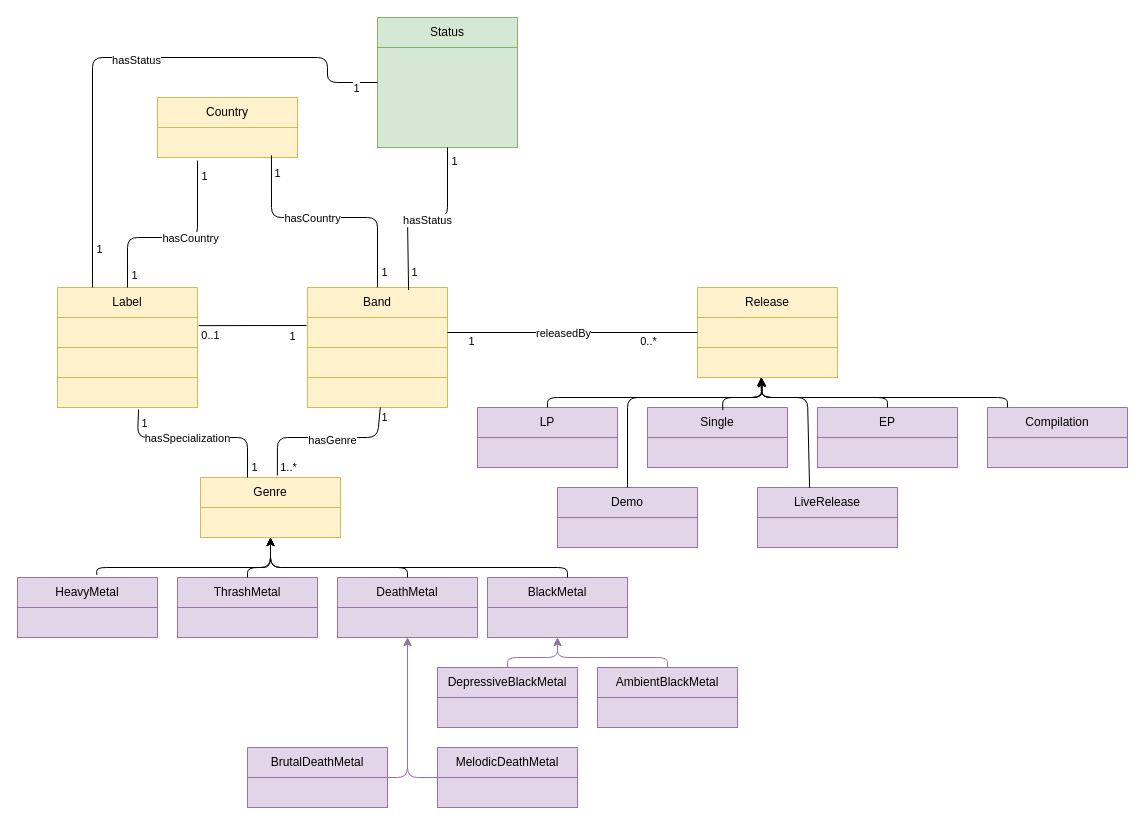
This 1145x825 diagram has some shape labels left out. Each missing label, with the centre of its shape:
Active split-up On hold Disbanded Reformed Changed name: (447,97)
bandID: (377,332)
bandName: (377,362)
countryName: (227,142)
labelID: (127,332)
labelName: (127,362)
matelArchiveURL: (377,392)
releaseName: (767,332)
releaseYear: (767,362)
websiteURL: (127,392)
